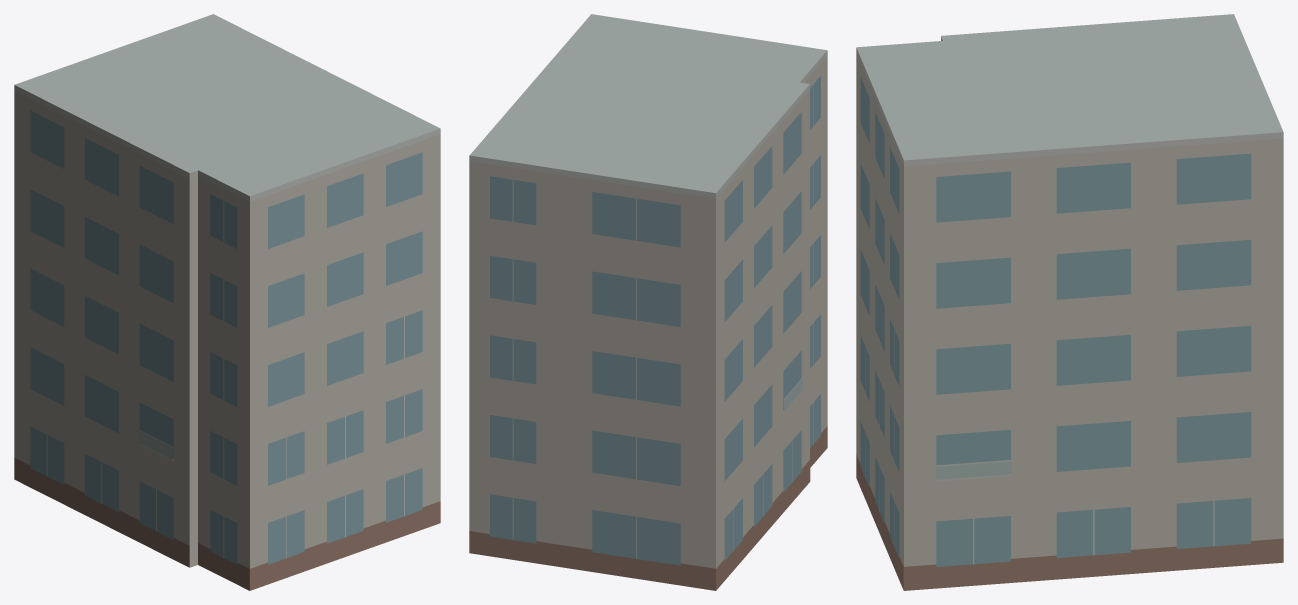
File: survey-upis-32611899.glb
3 renders of one model, left to right at view 1: azimuth 30°, elevation 25°; view 2: azimuth 150°, elevation 25°; view 3: azimuth 270°, elevation 25°, orthographic. The views are drawn at different scales.
Parts seen in each view (by area): view 1: survey-upis-32611899.tmp; view 2: survey-upis-32611899.tmp; view 3: survey-upis-32611899.tmp.
Part boxes in pixels (x1,y1,x2,y2): survey-upis-32611899.tmp: (14, 14, 440, 590); survey-upis-32611899.tmp: (469, 14, 827, 590); survey-upis-32611899.tmp: (856, 14, 1283, 590).
Size of the model in its own units: 12.55 by 17.2 by 15.48.
